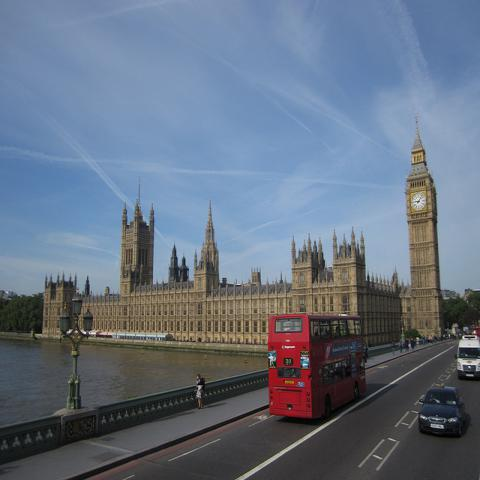bus: (268, 314, 366, 421)
car: (418, 384, 466, 437)
truck: (454, 334, 479, 380)
